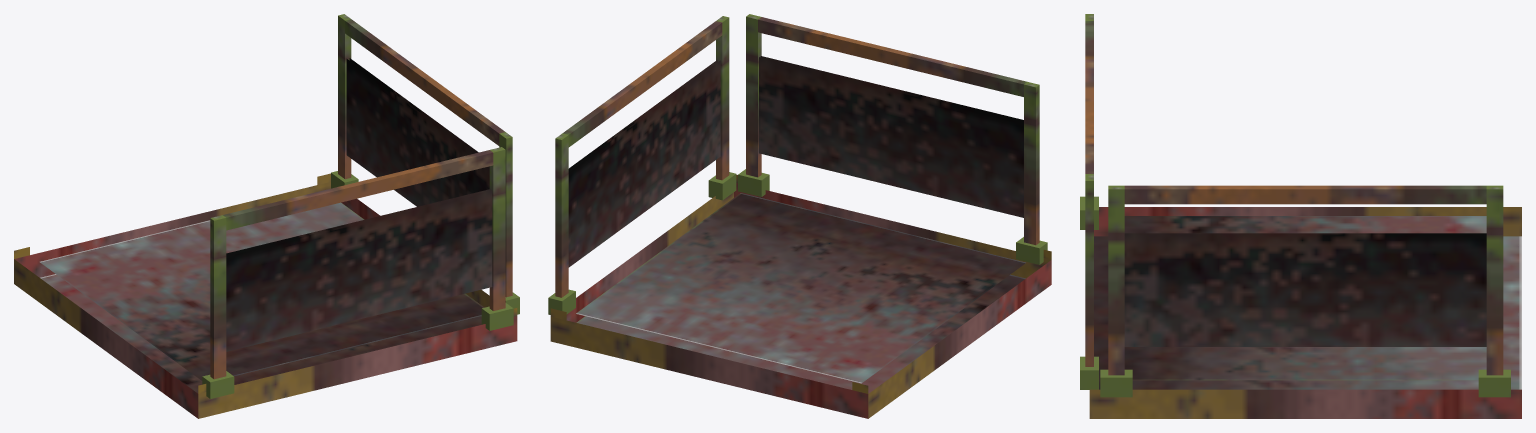
Rendered from SM_PLATAFORMA_02.fbx.
3 views of the same model, side by side, from view 1: azimuth 30°, elevation 25°; view 2: azimuth 150°, elevation 25°; view 3: azimuth 270°, elevation 25° (orthographic). The views are drawn at different scales.
Parts seen in each view (by area): view 1: SM_PLATAFORMA_02; view 2: SM_PLATAFORMA_02; view 3: SM_PLATAFORMA_02.
Boxes of the visible parts, x1,y1,x2,y2 form: SM_PLATAFORMA_02: (14, 14, 519, 418); SM_PLATAFORMA_02: (548, 14, 1051, 418); SM_PLATAFORMA_02: (1080, 14, 1521, 418).
Size of the model in its own units: 2.04 by 1.18 by 2.04.
